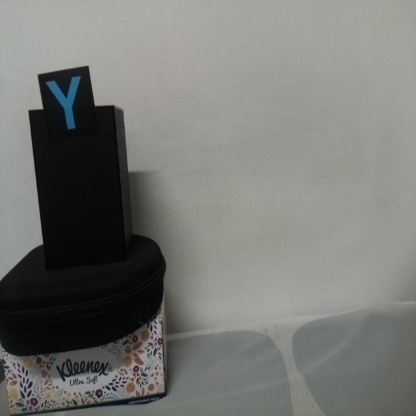id_14: (38, 72, 93, 140)
